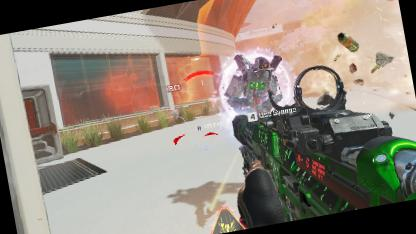Target: (226, 50, 284, 108)
